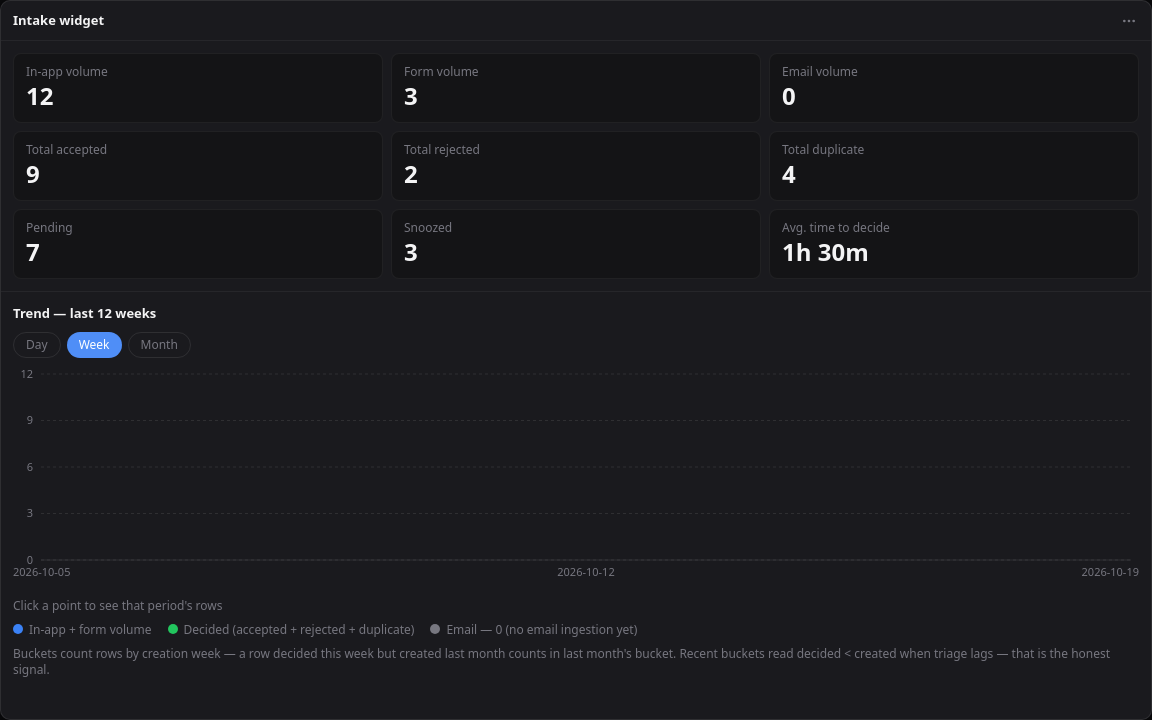
it: WidgetCard intake trend (C86T1) › read-only (shared-view) cards still fetch the trend and offer Trend CSV
Expected: the heading "Trend — last 12 weeks" is shown, top-left (13, 304), bottom-right (156, 322)
Click the button named "Widget options for Intake widget": (1129,20) top-left (1115, 6), bottom-right (1143, 34)
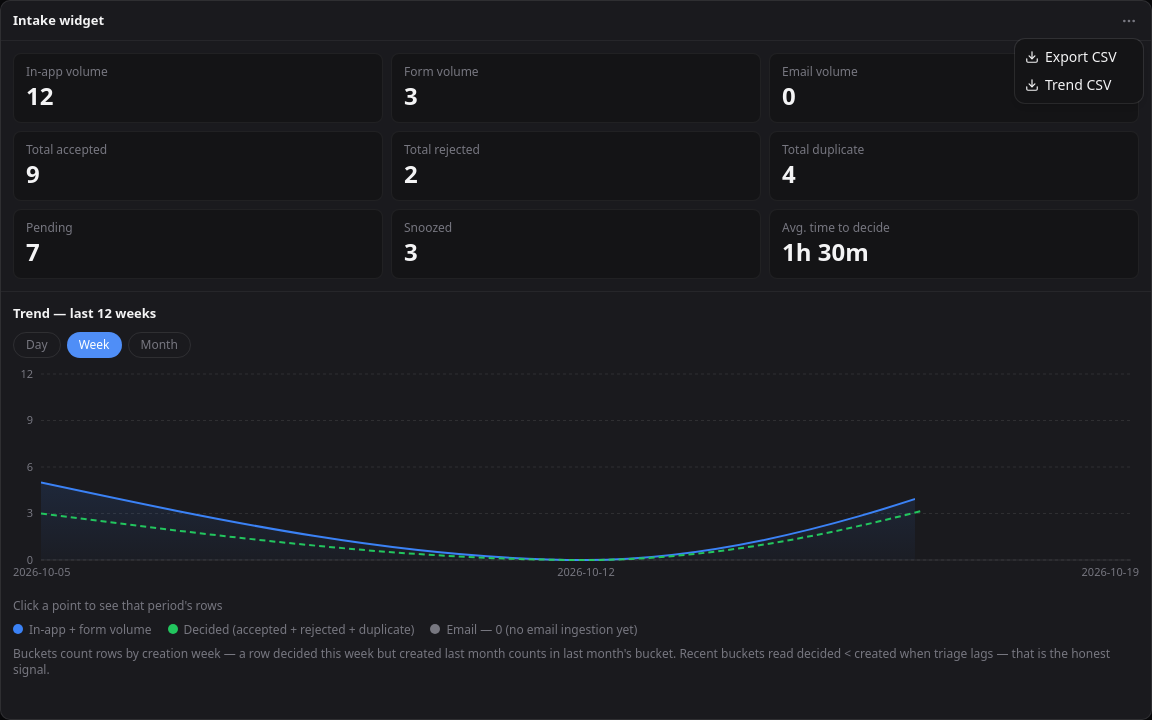
Now the menu item "Trend CSV" is shown, box top-left (1025, 75), bottom-right (1111, 94)
